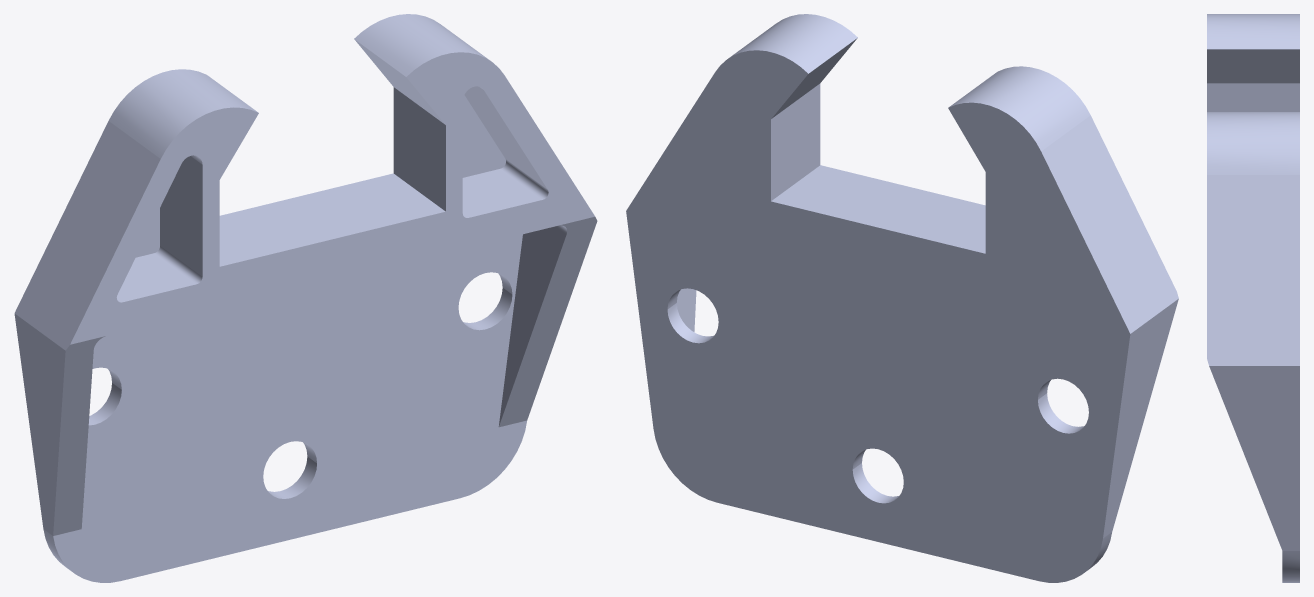
Rendered from drawer-part.glb.
The picture shows the model from 3 angles, left to right: view 1: azimuth 30°, elevation 25°; view 2: azimuth 150°, elevation 25°; view 3: azimuth 270°, elevation 25°; orthographic projection. The views are drawn at different scales.
Parts seen in each view (by area): view 1: empty_2; view 2: empty_2; view 3: empty_2.
Boxes of the visible parts, x1=… form: empty_2: x1=14, y1=14, x2=597, y2=582; empty_2: x1=626, y1=14, x2=1178, y2=582; empty_2: x1=1207, y1=14, x2=1299, y2=582.
Size of the model in its own units: 47 by 41.29 by 8.
